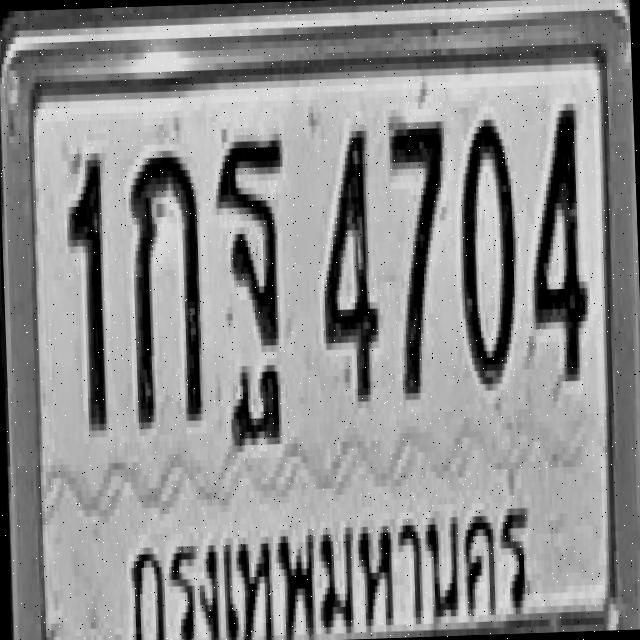0: (454, 112, 518, 384)
1: (64, 149, 109, 434)
10GorGai: (126, 140, 203, 426)
25ThorThan: (213, 130, 290, 403)
4: (525, 100, 590, 378), (316, 124, 380, 402)
7: (386, 114, 452, 393)
